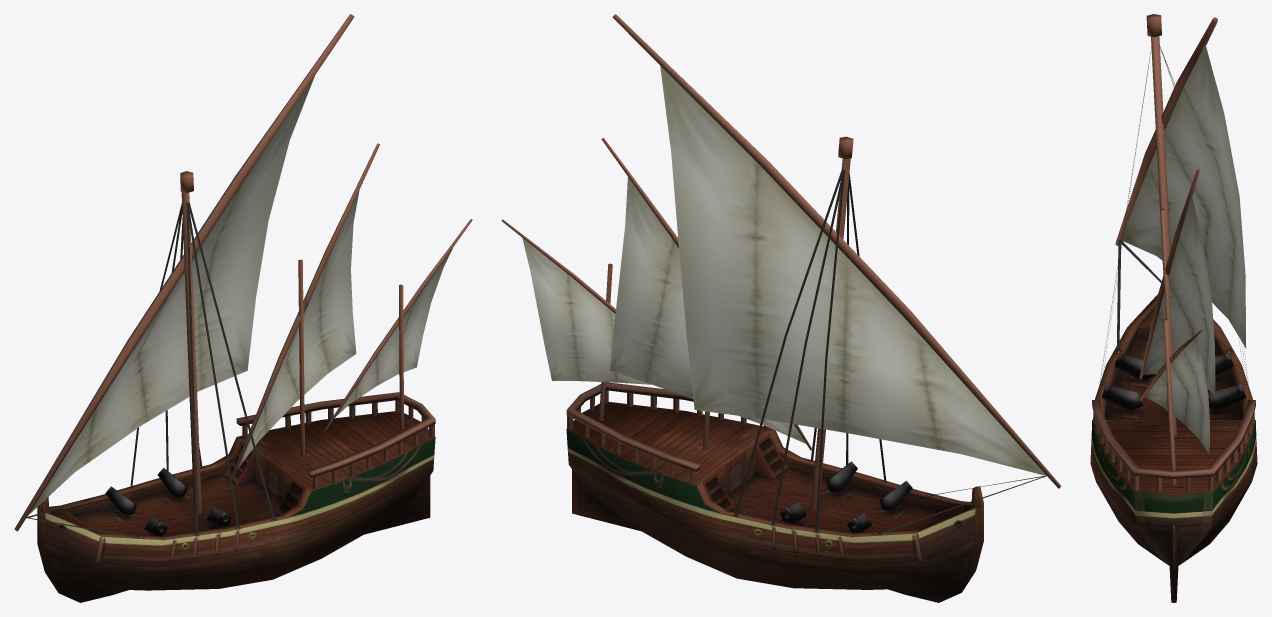
File: barakas_model.fbx
3 renders of one model, left to right at view 1: azimuth 30°, elevation 25°; view 2: azimuth 150°, elevation 25°; view 3: azimuth 270°, elevation 25°, orthographic. The views are drawn at different scales.
Visible parts, largest first — view 1: 02-barkas; view 2: 02-barkas; view 3: 02-barkas.
Boxes of the visible parts, x1,y1,x2,y2 form: 02-barkas: (14, 14, 472, 602); 02-barkas: (501, 14, 1061, 602); 02-barkas: (1090, 14, 1257, 602).
Size of the model in its own units: 524 by 509 by 139.
